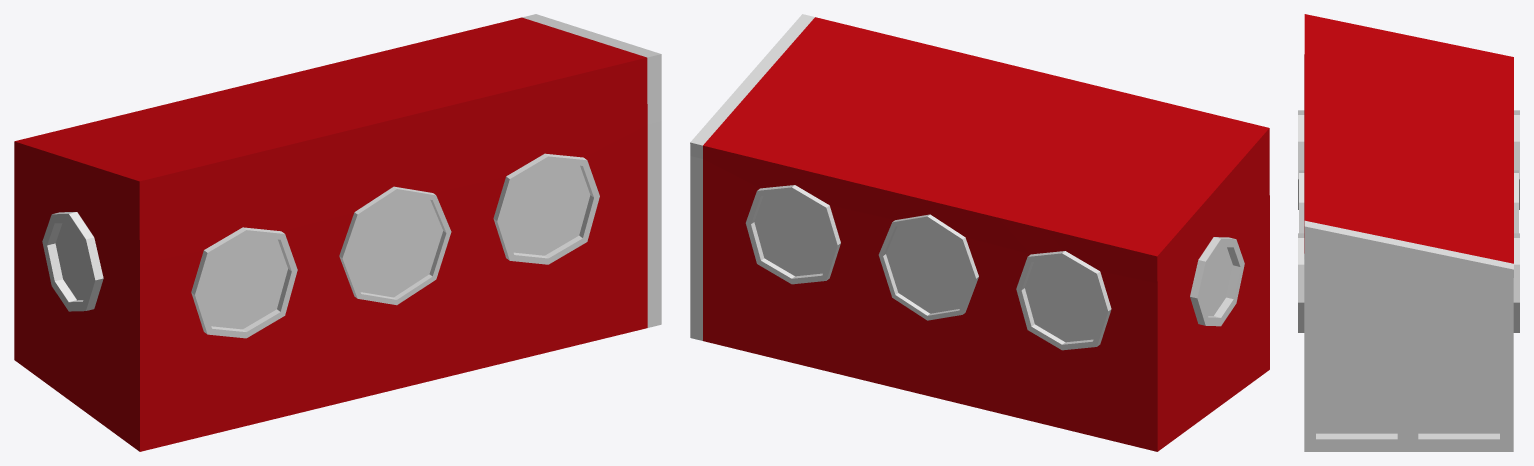
The model's file is slanted.fbx.
The picture shows the model from 3 angles, left to right: view 1: azimuth 30°, elevation 25°; view 2: azimuth 150°, elevation 25°; view 3: azimuth 270°, elevation 25°; orthographic projection. The views are drawn at different scales.
Visible parts, largest first — view 1: slant; view 2: slant; view 3: slant.
Part boxes in pixels (<box>): slant: <box>14,14,661,451</box>; slant: <box>690,14,1269,451</box>; slant: <box>1298,14,1519,451</box>.
Bounding box in the file's own units: 438 × 213 × 190.
